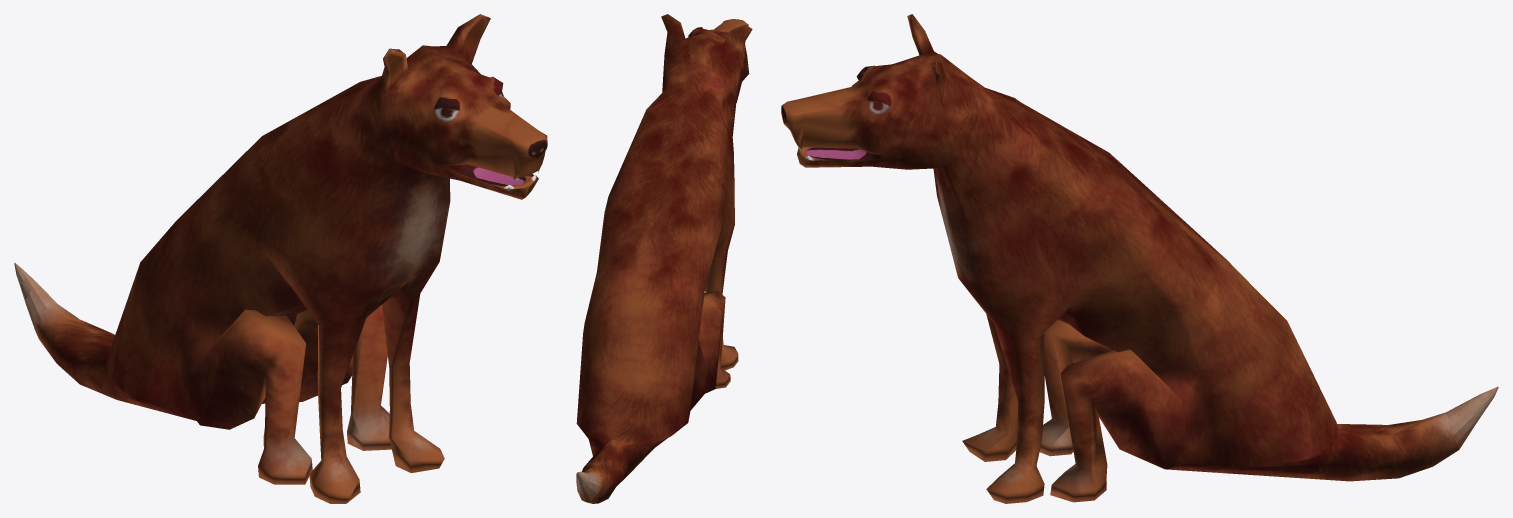
Rendered from Perro.fbx.
3 views of the same model, side by side, from view 1: azimuth 30°, elevation 25°; view 2: azimuth 150°, elevation 25°; view 3: azimuth 270°, elevation 25° (orthographic). The views are drawn at different scales.
Parts seen in each view (by area): view 1: Geo_perro; view 2: Geo_perro; view 3: Geo_perro.
Boxes of the visible parts, bbox=[...] form: Geo_perro: bbox=[14, 14, 547, 503]; Geo_perro: bbox=[576, 14, 752, 503]; Geo_perro: bbox=[781, 14, 1498, 503].
Size of the model in its own units: 45.13 by 112 by 152.
1 material, 1 textured.
